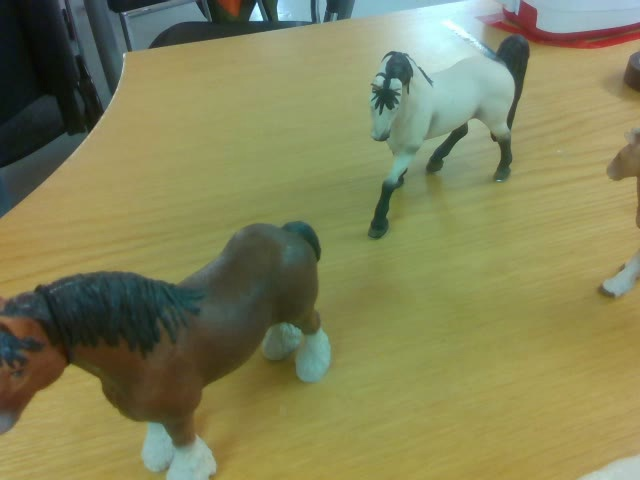toy: (1, 220, 332, 480), (367, 36, 529, 240)
